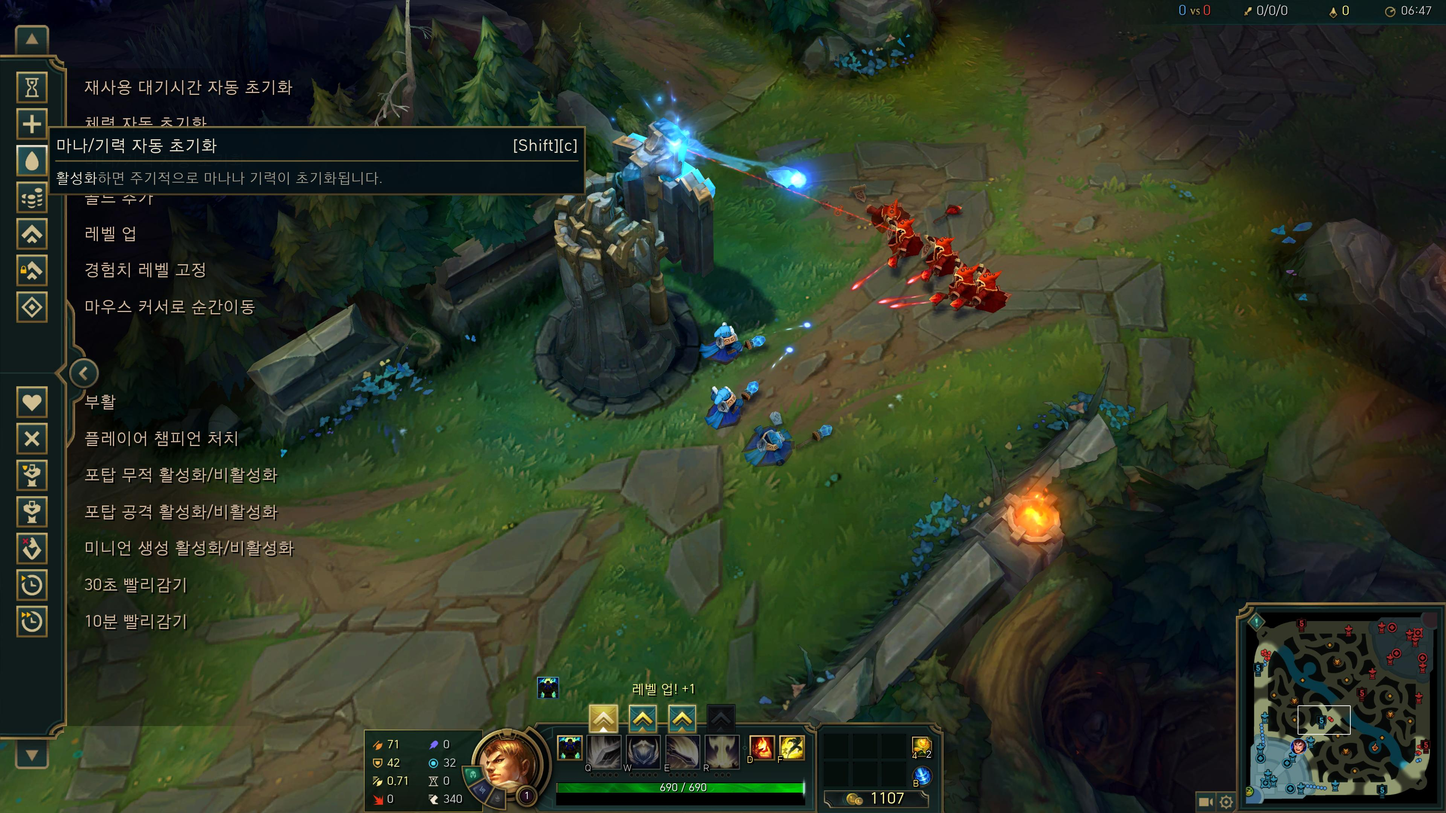ally-caster-minion: (700, 321, 766, 364), (706, 381, 759, 431)
enemy-caster-minion: (884, 217, 923, 268), (921, 236, 956, 284)
